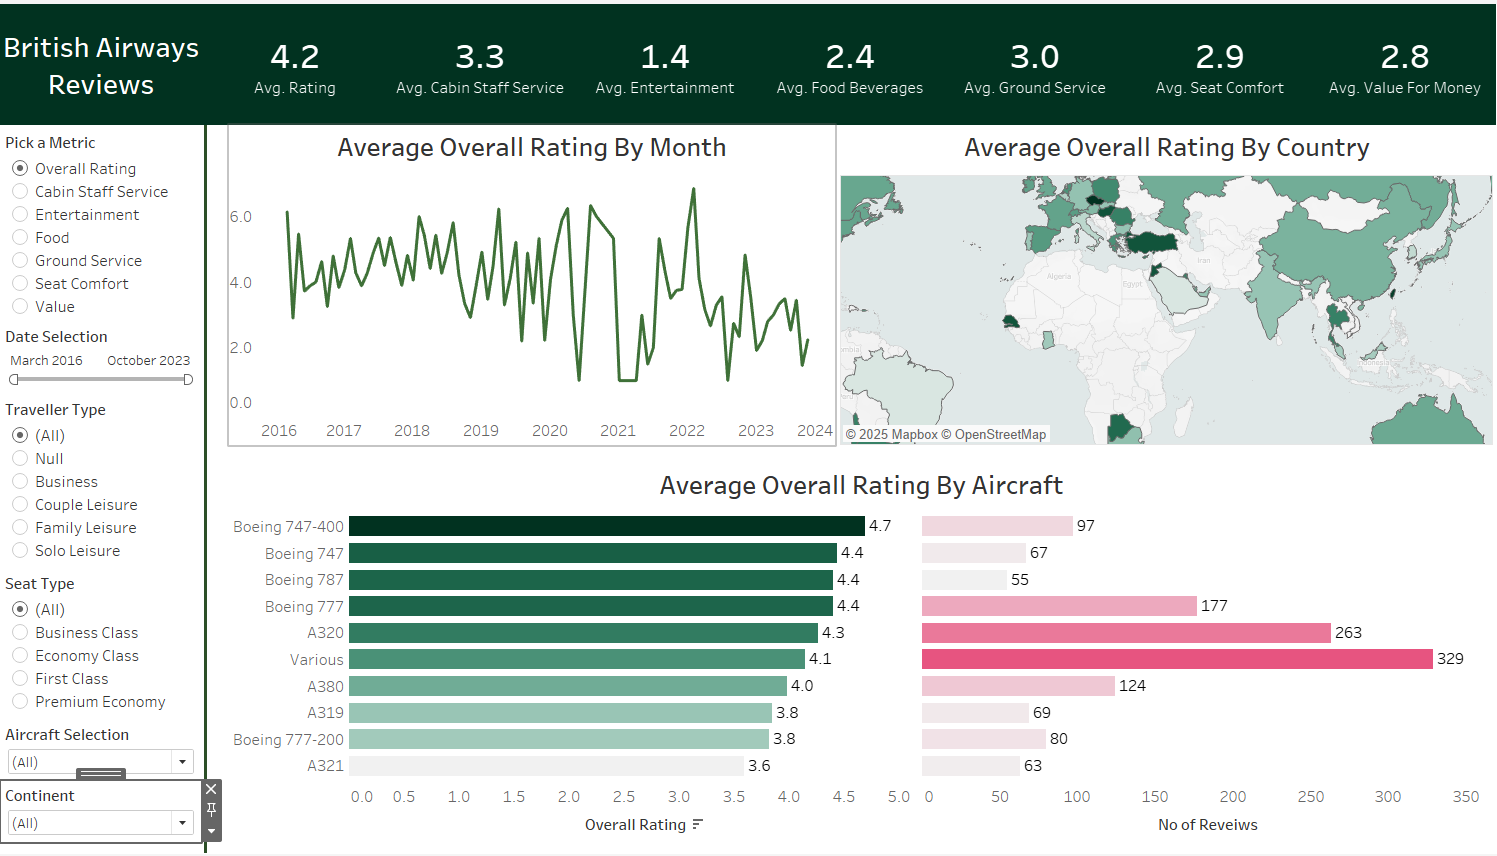

Layout of this report page (visuals, bound fields, positions):
{"tool":"tableau","page":{"name":"Dashboard 1","canvas":[1500,850],"ordinal":0},"visuals":[{"type":"text","box":[0,0,204,121]},{"type":"worksheet","title":"Summary","mark":"Automatic","box":[203,0,1295,121]},{"type":"blank","box":[205,121,3,728]},{"type":"worksheet","title":"Month","mark":"Automatic","rows":["Calculation_822469925446426624"],"cols":["date"],"box":[230,121,606,320]},{"type":"worksheet","title":"Map","mark":"Automatic","box":[841,121,654,320]},{"type":"parameter","param":"[Parameters].[Seat Comfort Parameter]","box":[2,124,200,194]},{"type":"filter","title":"Map","param":"[federated.1pquoqg1qe2fru15wyfsn0cuxcbu].[tmn:date:qk]","box":[2,318,200,73]},{"type":"filter","title":"Map","param":"[federated.1pquoqg1qe2fru15wyfsn0cuxcbu].[none:traveller_type:nk]","box":[2,391,200,174]},{"type":"worksheet","title":"Aircraft","mark":"Automatic","cols":["Calculation_822469925446426624","ba_reviews.csv_244C6379C8C5404DB9AA61719B23DF6D"],"box":[230,459,1265,379]},{"type":"filter","title":"Map","param":"[federated.1pquoqg1qe2fru15wyfsn0cuxcbu].[none:seat_type:nk]","box":[2,565,200,151]},{"type":"filter","title":"Map","param":"[federated.1pquoqg1qe2fru15wyfsn0cuxcbu].[Aircraft (group)]","box":[2,716,200,61]},{"type":"filter","title":"Map","param":"[federated.1pquoqg1qe2fru15wyfsn0cuxcbu].[none:Continent:nk]","box":[2,777,200,61]}]}

Visuals, with their boxes in screenshot pixels (x1, y1, x2, y2), scaled from the page's 1500x850 canvas onto the 1497x856 screenshot:
text: <region>0, 0, 204, 122</region>
"Summary" worksheet: <region>203, 0, 1495, 122</region>
blank: <region>205, 122, 208, 855</region>
"Month" worksheet: <region>230, 122, 834, 444</region>
"Map" worksheet: <region>839, 122, 1492, 444</region>
parameter: <region>2, 125, 202, 320</region>
"Map" filter: <region>2, 320, 202, 394</region>
"Map" filter: <region>2, 394, 202, 569</region>
"Aircraft" worksheet: <region>230, 462, 1492, 844</region>
"Map" filter: <region>2, 569, 202, 721</region>
"Map" filter: <region>2, 721, 202, 782</region>
"Map" filter: <region>2, 782, 202, 844</region>
